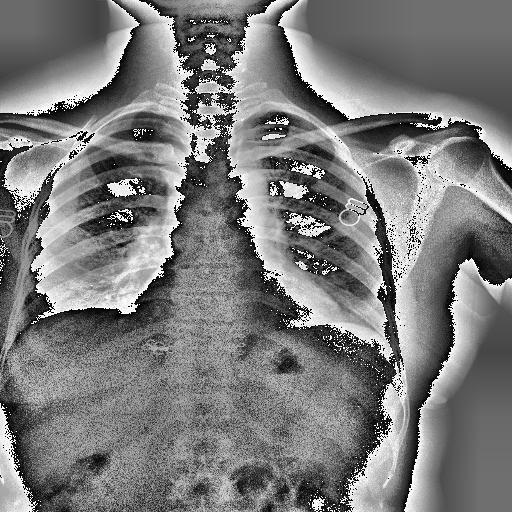0- Aortic enlargement: (218, 166, 273, 224)
3- Cardiomegaly: (128, 278, 342, 332), (132, 276, 344, 326), (136, 284, 342, 326)
